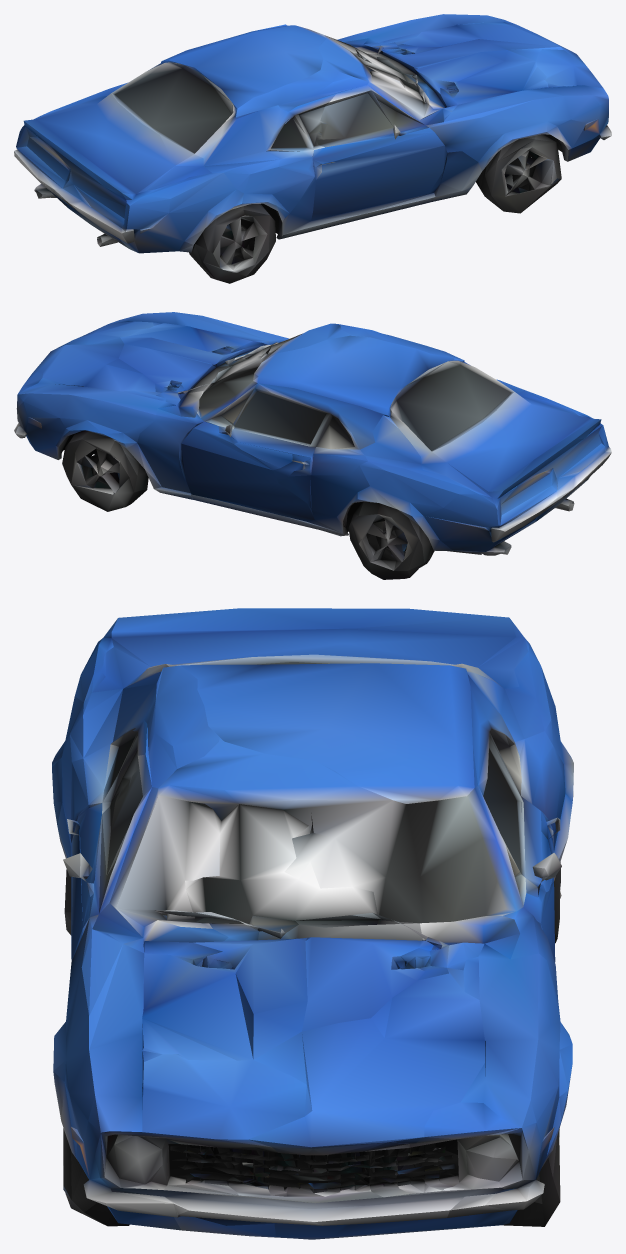
The model's file is sv_stallion_race.glb.
3 renders of one model, top to bottom at view 1: azimuth 30°, elevation 25°; view 2: azimuth 150°, elevation 25°; view 3: azimuth 270°, elevation 25°, orthographic. The views are drawn at different scales.
Visible parts, largest first — view 1: body, wheel_RR_part, wheel_FR_part; view 2: body, wheel_FL_part, wheel_RL_part; view 3: body, wheel_FL_part, wheel_FR_part.
Boxes of the visible parts, <box> form: body: <box>14,14,611,253</box>; wheel_RR_part: <box>189,204,275,283</box>; wheel_FR_part: <box>476,134,561,213</box>; body: <box>14,312,611,555</box>; wheel_FL_part: <box>62,430,148,511</box>; wheel_RL_part: <box>348,501,434,579</box>; body: <box>52,608,573,1239</box>; wheel_FL_part: <box>503,1129,560,1226</box>; wheel_FR_part: <box>63,1128,129,1226</box>.
Size of the model in its own units: 1.9 by 0.5533 by 0.8261.
